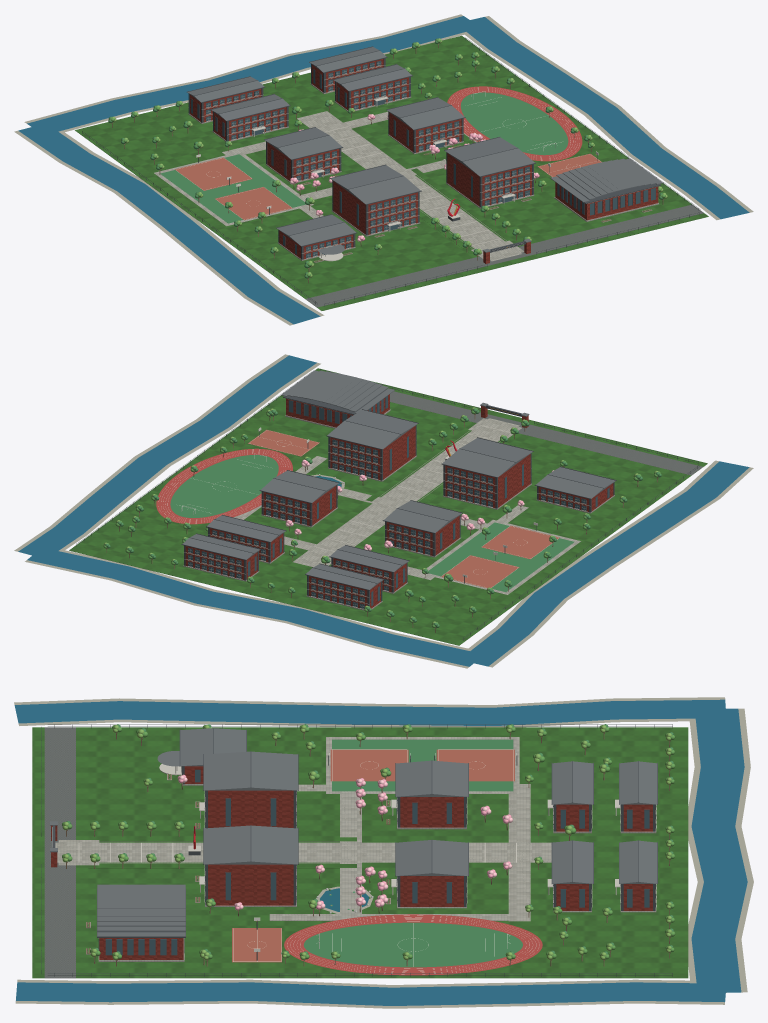
Rendered from campus_scene.glb.
3 renders of one model, top to bottom at view 1: azimuth 30°, elevation 25°; view 2: azimuth 150°, elevation 25°; view 3: azimuth 270°, elevation 25°, orthographic. The views are drawn at different scales.
Visible parts, largest first — view 1: grass, water, field, bank, paver, road, court, BUILDING_gymnasium__slate, track, BUILDING_teaching_east__slate, BUILDING_teaching_west__slate, BUILDING_teaching_west__brick (+38 smaller); view 2: grass, water, bank, field, paver, court, road, BUILDING_gymnasium__slate, track, BUILDING_teaching_east__slate, BUILDING_teaching_west__slate, BUILDING_teaching_west__brick (+37 smaller); view 3: grass, water, bank, paver, field, road, court, track, BUILDING_gymnasium__slate, BUILDING_teaching_east__slate, BUILDING_teaching_west__slate, BUILDING_teaching_east__brick (+26 smaller).
Part boxes in pixels (x1,y1,x2,y2): grass: (75,35,708,310); water: (18,16,749,324); field: (160,92,568,223); bank: (14,14,753,325); paver: (222,111,521,261); road: (306,204,703,307); court: (175,153,601,220); BUILDING_gymnasium__slate: (550,158,662,202); track: (447,86,582,161); BUILDING_teaching_east__slate: (445,137,534,176); BUILDING_teaching_west__slate: (331,165,420,204); BUILDING_teaching_west__brick: (333,181,417,234); grass: (69,368,707,645); water: (18,355,749,666); bank: (14,354,753,668); field: (170,455,574,591); paver: (233,418,528,580); court: (248,429,559,588); road: (390,391,702,475); BUILDING_gymnasium__slate: (281,370,394,413); track: (156,448,292,524); BUILDING_teaching_east__slate: (327,410,417,449); BUILDING_teaching_west__slate: (442,438,532,477); BUILDING_teaching_west__brick: (445,454,530,507); grass: (32,727,688,978); water: (14,699,747,1005); bank: (14,697,753,1008); paver: (55,784,551,921); field: (303,739,522,967); road: (44,727,75,978); court: (232,749,514,962); track: (284,914,542,975); BUILDING_gymnasium__slate: (97,884,185,936); BUILDING_teaching_east__slate: (204,825,297,864); BUILDING_teaching_west__slate: (204,751,297,790); BUILDING_teaching_east__brick: (208,864,293,905).
Size of the model in its own units: 236 by 16.5 by 237.
Materials: 35 (6 with a texture image).
